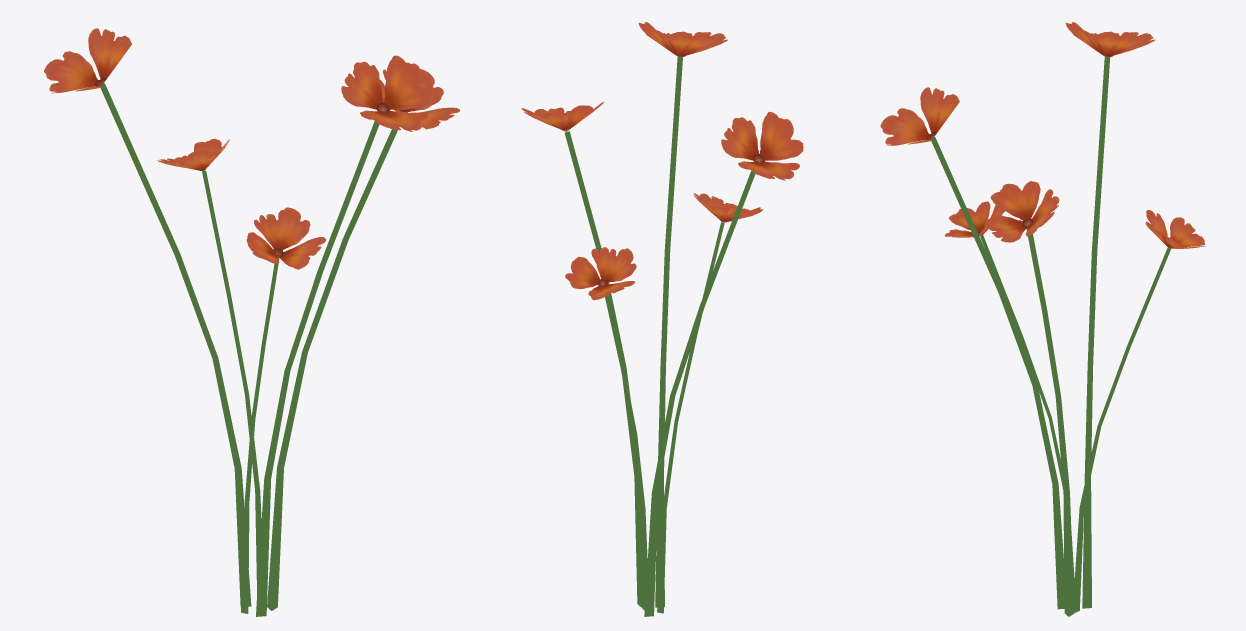
Rendered from SM_Flower_08_02.fbx.
3 renders of one model, left to right at view 1: azimuth 30°, elevation 25°; view 2: azimuth 150°, elevation 25°; view 3: azimuth 270°, elevation 25°, orthographic. The views are drawn at different scales.
Visible parts, largest first — view 1: SM_Flower_08_02_LOD0; view 2: SM_Flower_08_02_LOD0; view 3: SM_Flower_08_02_LOD0.
Boxes of the visible parts, x1,y1,x2,y2 form: SM_Flower_08_02_LOD0: (44, 28, 459, 616); SM_Flower_08_02_LOD0: (521, 22, 803, 616); SM_Flower_08_02_LOD0: (880, 22, 1205, 616).
Size of what is drawn, in the model's own units: 40.03 by 58.5 by 36.35.
